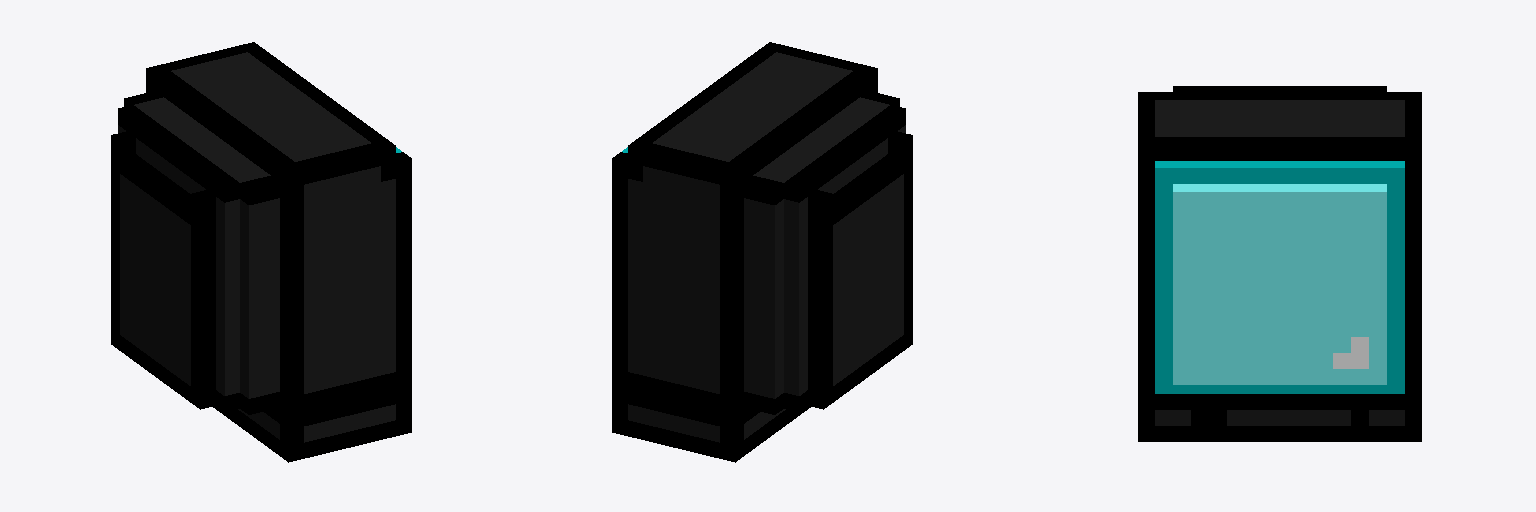
3 renders of one model, left to right at view 1: azimuth 30°, elevation 25°; view 2: azimuth 150°, elevation 25°; view 3: azimuth 270°, elevation 25°, orthographic.
Visible parts, largest first — view 1: TV; view 2: TV; view 3: TV.
Part boxes in pixels (bbox=[...]): TV: bbox=[111, 42, 411, 462]; TV: bbox=[612, 42, 912, 462]; TV: bbox=[1138, 86, 1421, 441].
Bounding box in the file's own units: 1.3 × 1.8 × 1.6.
1 materials, 1 textured.